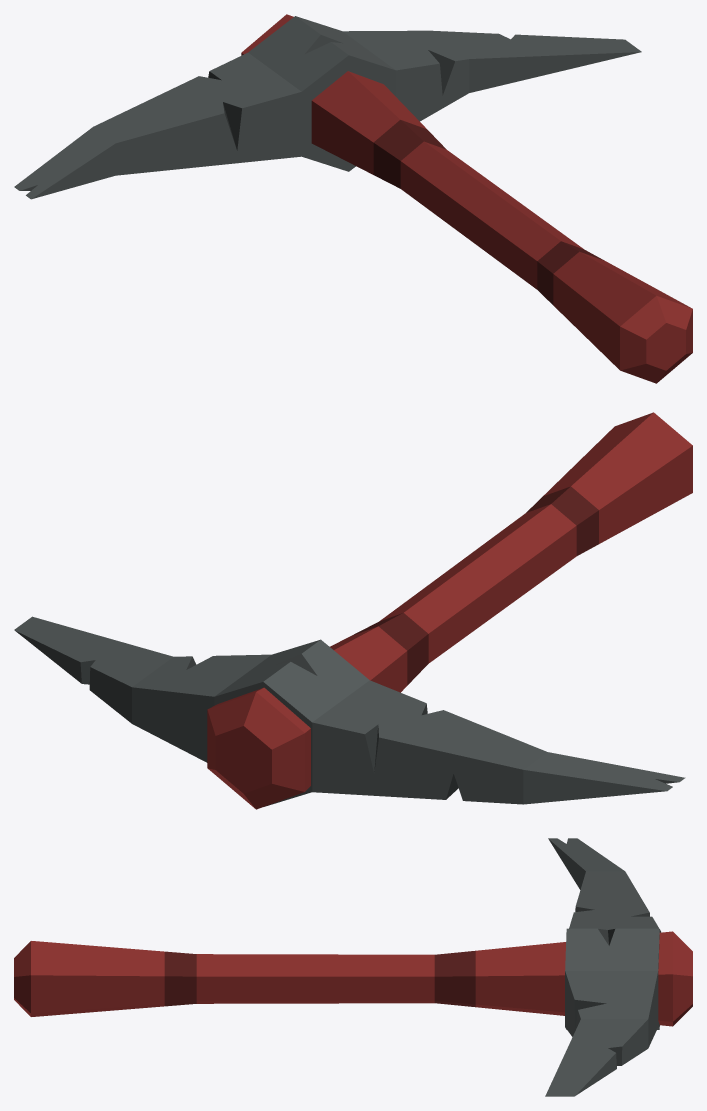
Rendered from Pickaxe_2_Red.fbx.
3 views of the same model, one above another, from view 1: azimuth 30°, elevation 25°; view 2: azimuth 150°, elevation 25°; view 3: azimuth 270°, elevation 25° (orthographic). The views are drawn at different scales.
Parts seen in each view (by area): view 1: Pickaxe_2_Red_Part_2, Pickaxe_2_Red_Part_1, Pickaxe_2_Red_Part_3, Pickaxe_2_Red_Part_4; view 2: Pickaxe_2_Red_Part_2, Pickaxe_2_Red_Part_1, Pickaxe_2_Red_Part_3, Pickaxe_2_Red_Part_4; view 3: Pickaxe_2_Red_Part_1, Pickaxe_2_Red_Part_2, Pickaxe_2_Red_Part_3, Pickaxe_2_Red_Part_4.
Boxes of the visible parts, bbox=[...] form: Pickaxe_2_Red_Part_2: bbox=[14, 16, 641, 199]; Pickaxe_2_Red_Part_1: bbox=[241, 14, 692, 383]; Pickaxe_2_Red_Part_3: bbox=[373, 120, 604, 304]; Pickaxe_2_Red_Part_4: bbox=[20, 35, 454, 190]; Pickaxe_2_Red_Part_2: bbox=[14, 616, 685, 806]; Pickaxe_2_Red_Part_1: bbox=[207, 412, 692, 809]; Pickaxe_2_Red_Part_3: bbox=[351, 486, 598, 685]; Pickaxe_2_Red_Part_4: bbox=[80, 654, 679, 799]; Pickaxe_2_Red_Part_1: bbox=[14, 931, 692, 1026]; Pickaxe_2_Red_Part_2: bbox=[545, 838, 661, 1096]; Pickaxe_2_Red_Part_3: bbox=[164, 950, 475, 1007]; Pickaxe_2_Red_Part_4: bbox=[574, 906, 649, 1065].
Size of the model in its own units: 54.16 by 9.91 by 60.2.
